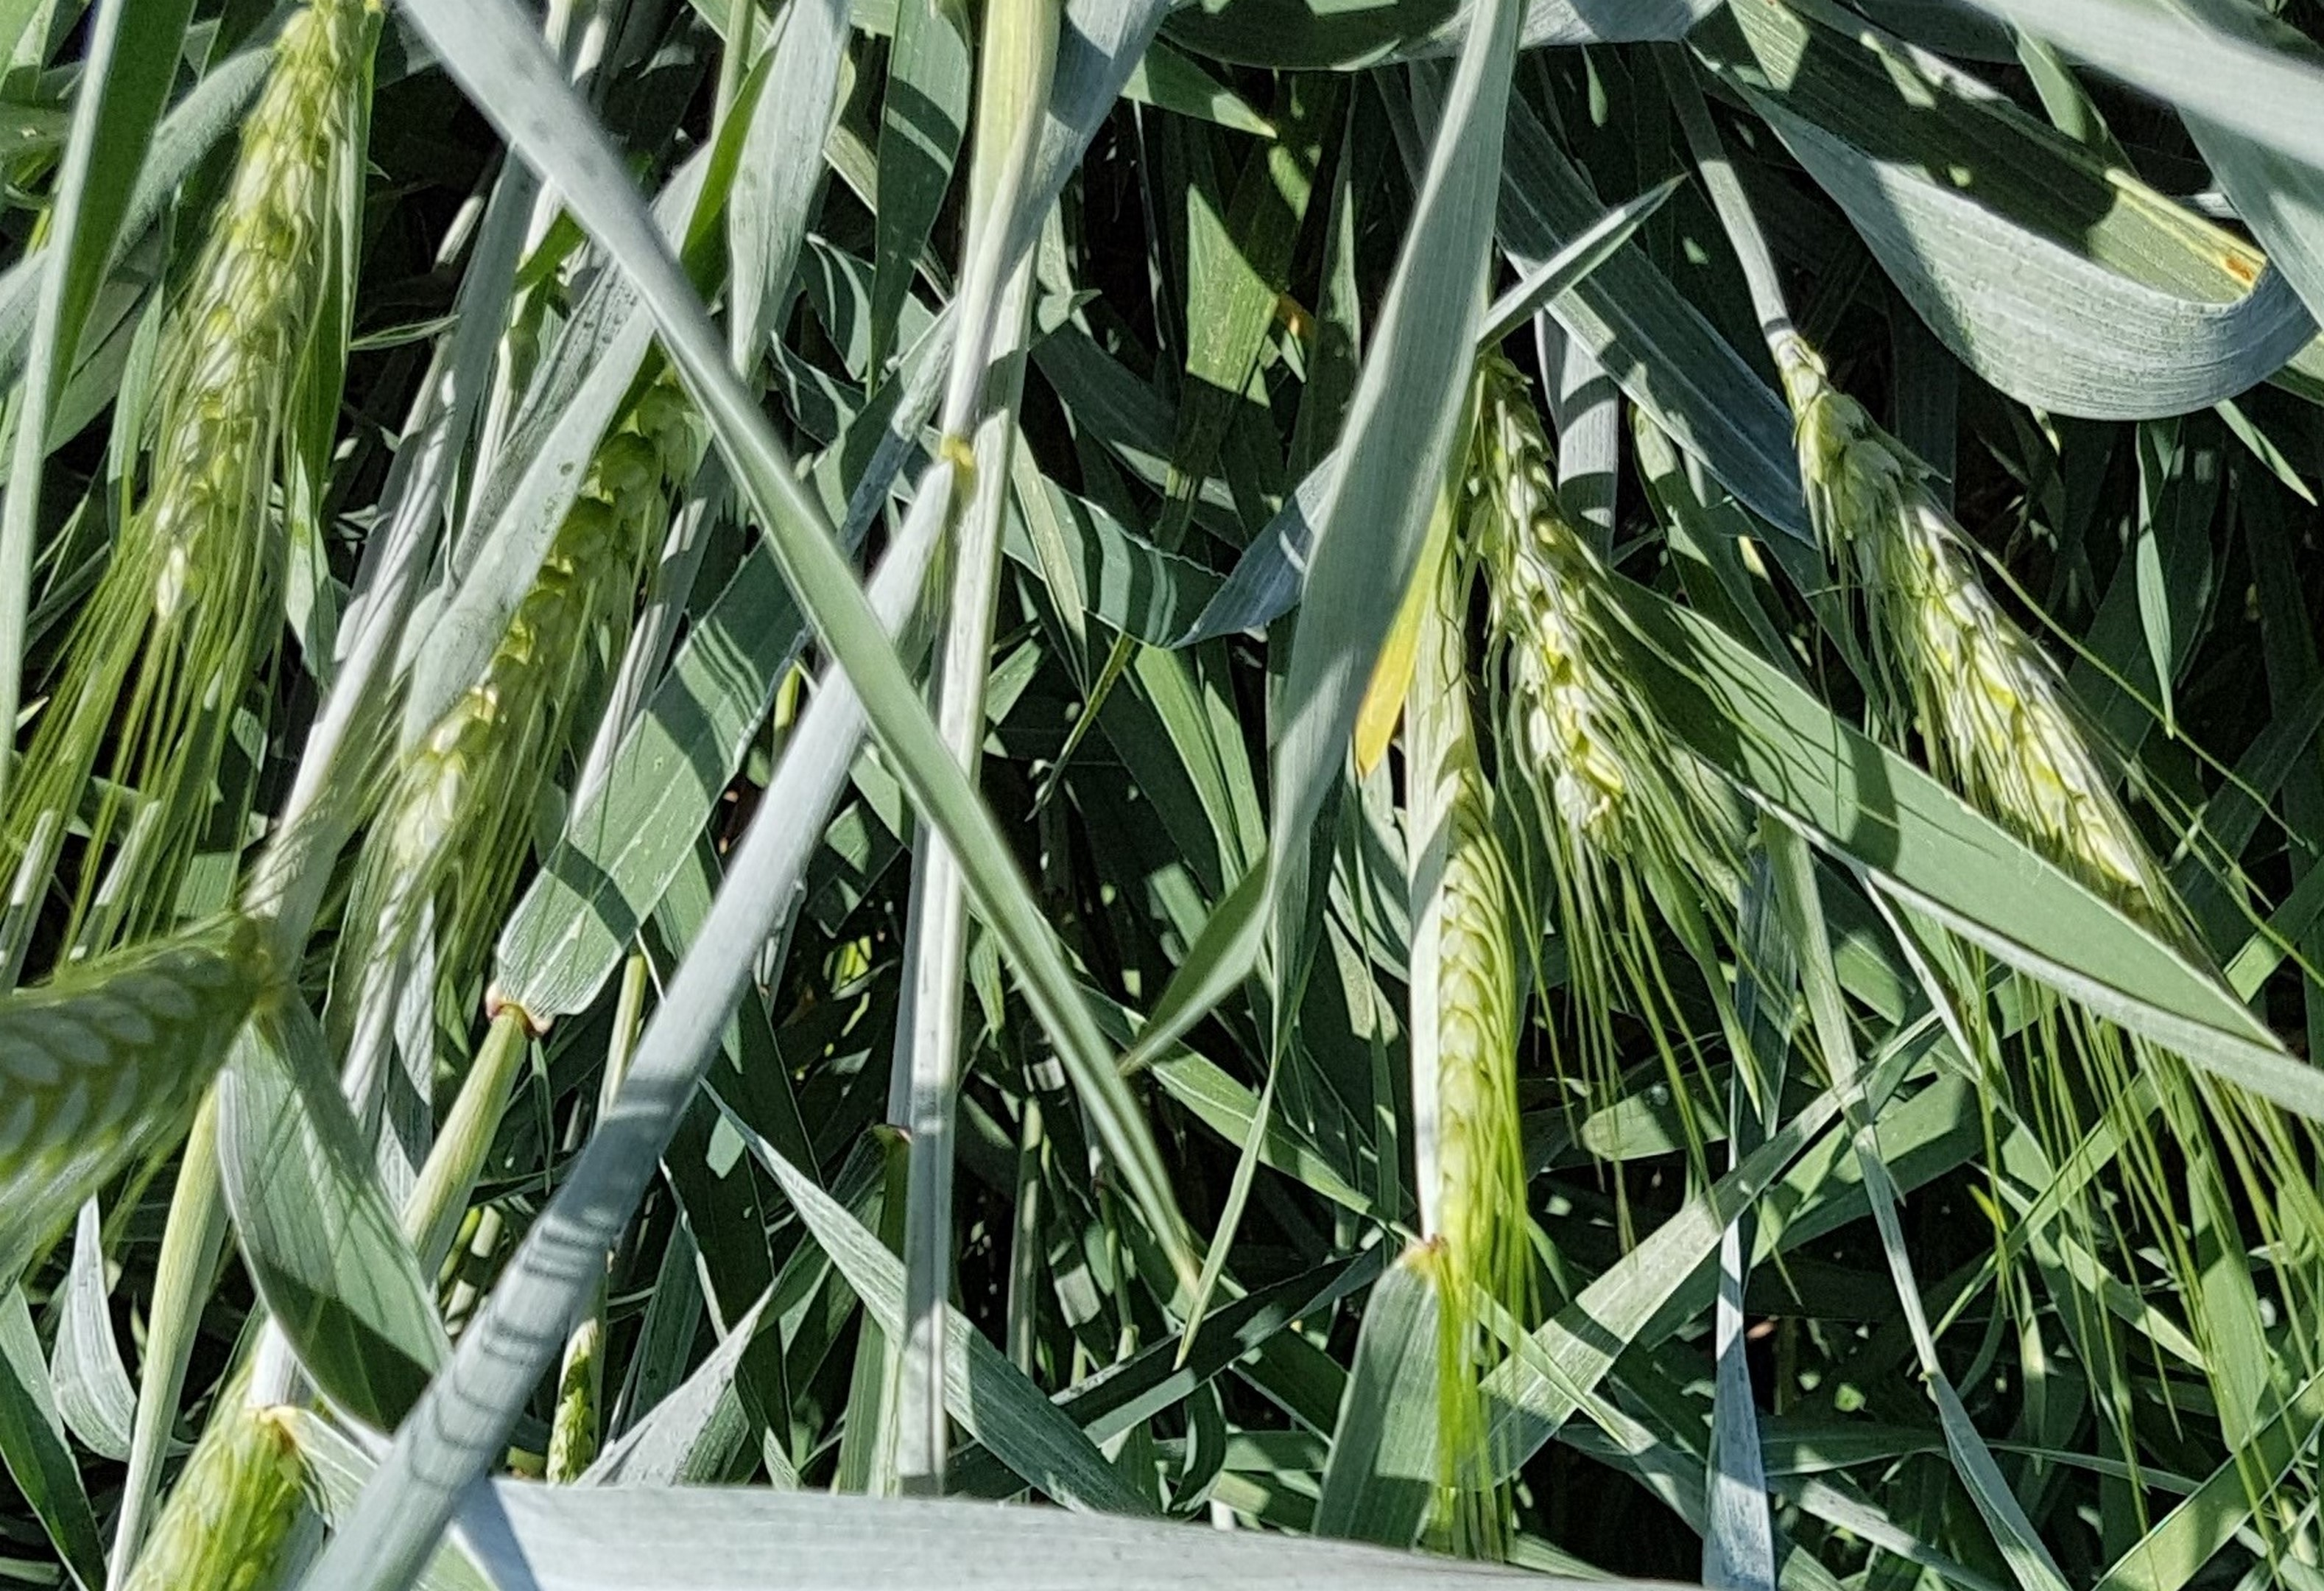Healthy Wheat: (1778, 381, 2206, 955), (118, 0, 408, 675)
